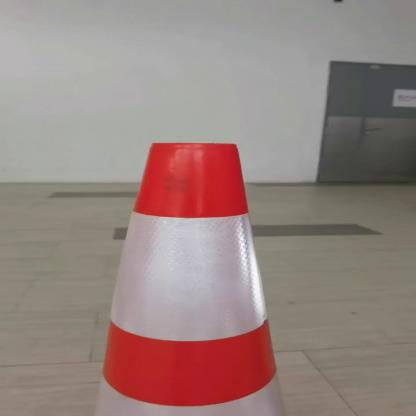cone: (66, 135, 342, 415)
